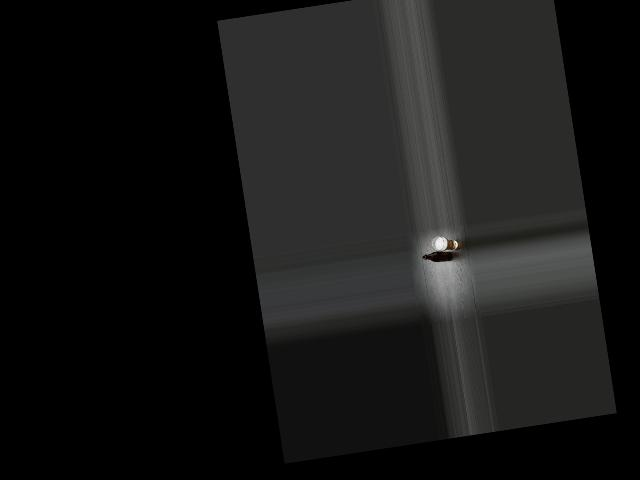beer: (421, 249, 454, 265)
